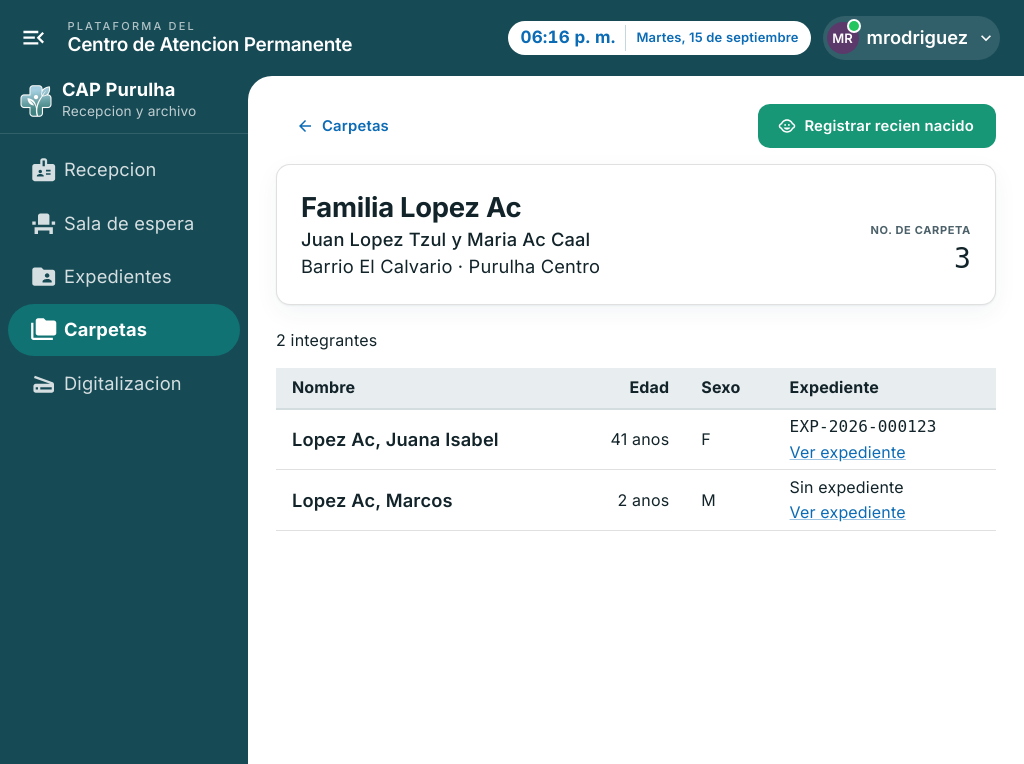
Scenario: el archivero de carpetas › desde la carpeta se registra al recien nacido, con lo de la familia ya puesto
Expected: the heading "Familia Lopez Ac" is shown, 301,190 -> 521,224
Click the link "Registrar recien nacido".
click(877, 126)  # box 758,104 -> 996,148
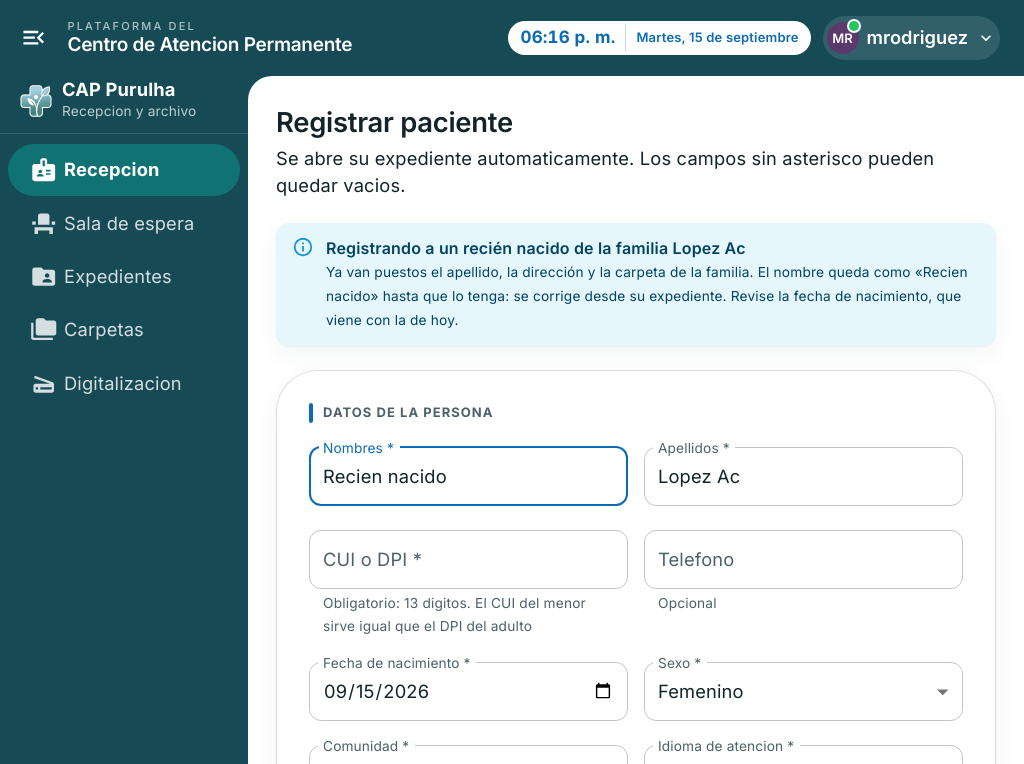
Expected: the text "Registrando a un recién nacido de la familia Lopez Ac" is shown, 326,238 -> 746,258
Expected: the field labelled "Apellidos *" holds "Lopez Ac", 644,447 -> 963,506
Expected: the field labelled "Nombres *" holds "Recien nacido", 309,447 -> 628,506
